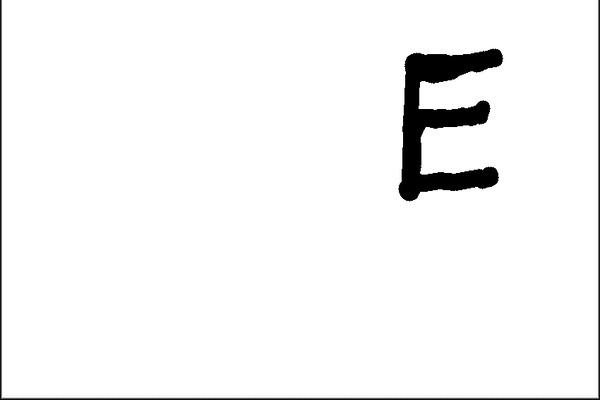E: (394, 44, 508, 203)
